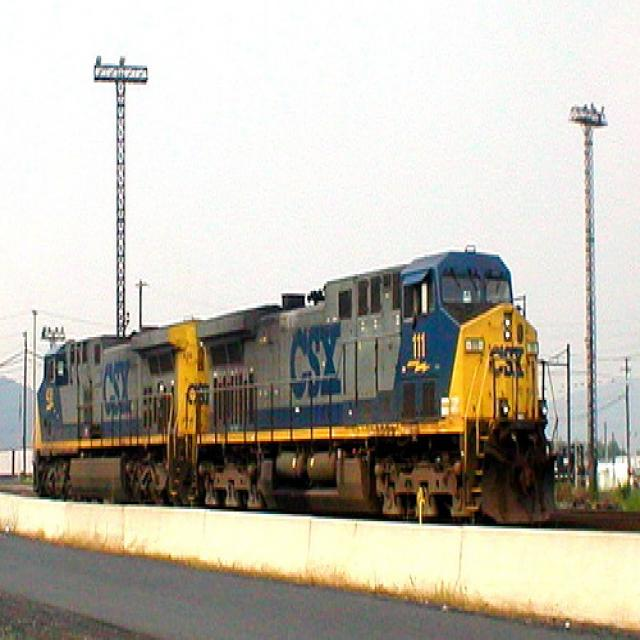locomotive: (196, 224, 560, 546), (26, 314, 202, 516)
